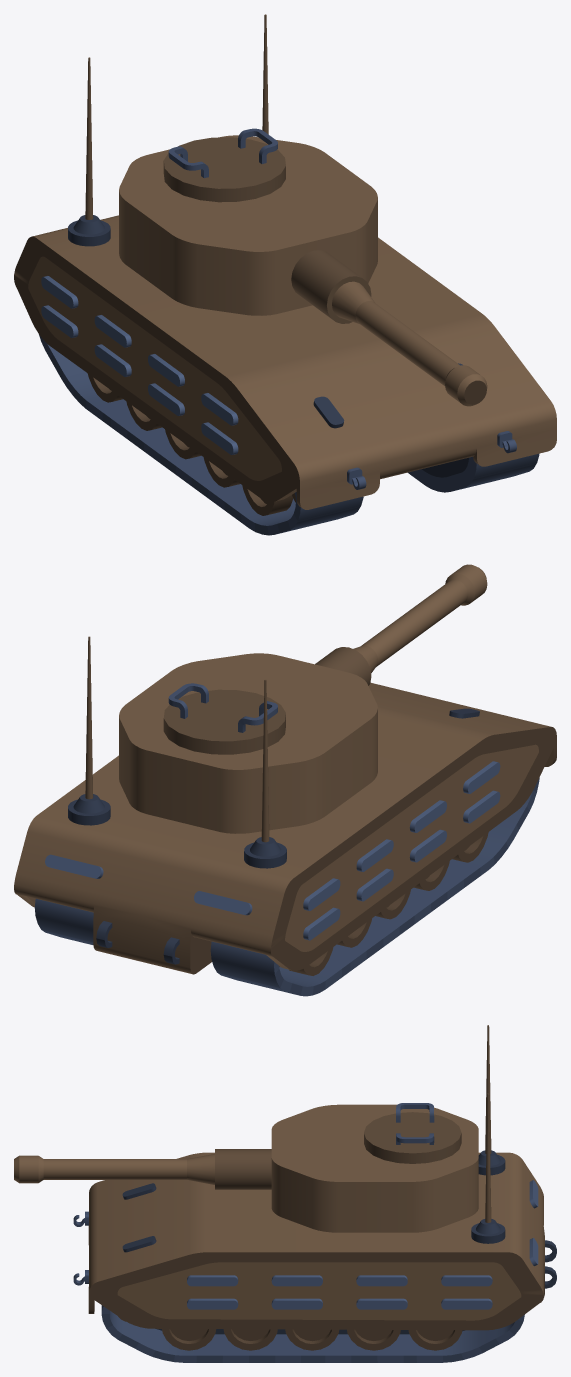
File: xe tank.fbx
3 renders of one model, top to bottom at view 1: azimuth 30°, elevation 25°; view 2: azimuth 150°, elevation 25°; view 3: azimuth 270°, elevation 25°, orthographic. The views are drawn at different scales.
Visible parts, largest first — view 1: Tank; view 2: Tank; view 3: Tank.
Boxes of the visible parts, x1,y1,x2,y2 form: Tank: [14, 14, 556, 535]; Tank: [14, 564, 556, 996]; Tank: [14, 1025, 556, 1362].
Size of the model in its own units: 451 by 521 by 999.
